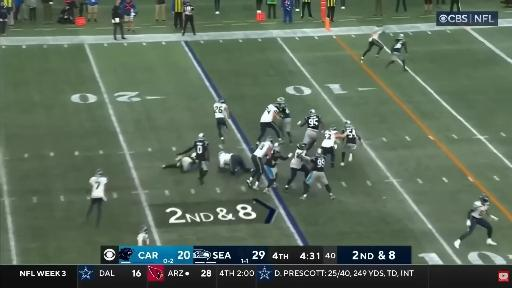Helmet: (480, 194, 489, 204), (139, 225, 148, 233), (277, 97, 285, 104), (345, 121, 352, 129), (297, 143, 305, 150), (266, 136, 273, 143), (273, 143, 279, 151), (316, 149, 322, 157), (198, 133, 204, 141), (190, 153, 196, 159), (96, 169, 102, 175), (309, 110, 315, 115), (330, 125, 336, 130), (275, 103, 280, 109), (218, 99, 225, 103), (398, 34, 403, 39), (219, 151, 224, 155), (377, 23, 381, 27)
Jersey: (265, 150, 288, 167), (90, 176, 107, 198), (290, 149, 306, 169), (253, 142, 272, 158), (261, 105, 278, 122), (471, 202, 489, 218), (194, 141, 208, 161), (322, 130, 338, 147), (305, 115, 321, 131), (343, 127, 358, 144), (310, 157, 325, 171), (392, 39, 406, 53), (369, 27, 383, 41), (214, 103, 227, 118), (179, 157, 194, 170), (219, 153, 232, 167), (137, 233, 149, 245), (279, 105, 290, 118)
Player: (454, 195, 497, 248), (298, 149, 334, 199), (177, 134, 209, 185), (264, 144, 292, 193), (247, 137, 273, 189), (86, 169, 107, 227), (285, 143, 309, 191), (256, 103, 281, 145), (298, 110, 323, 150), (321, 126, 345, 167), (341, 121, 361, 166), (361, 24, 384, 62), (386, 34, 408, 71), (219, 151, 251, 174), (214, 99, 229, 143), (162, 153, 196, 172), (278, 98, 292, 143), (137, 226, 149, 245)
